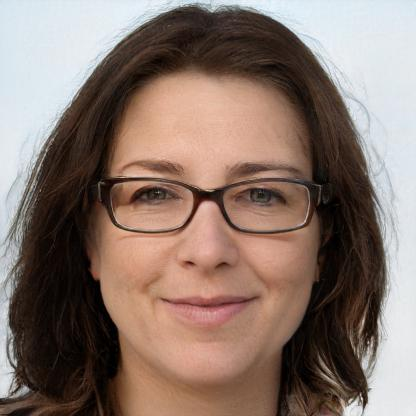glasses: (99, 171, 319, 242)
